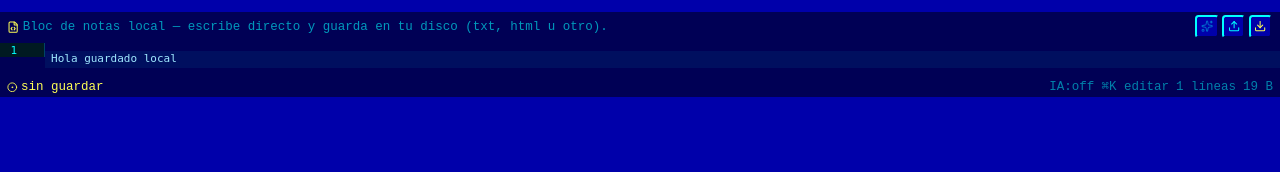
Test: EditorView › guarda el contenido como archivo LOCAL descargable (txt/html/otro)
Expected: the field with class "cm-content" is shown, [45,51,1279,68]
Click the button titled "Guardar archivo en tu disco" at (1260, 26), box [1249,14,1272,38]
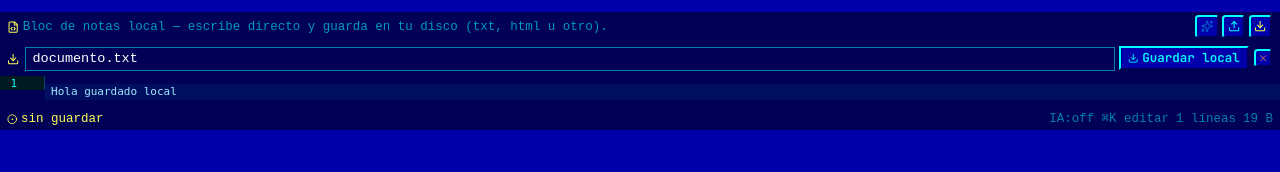
Replace the text in the field with placeholder "nombre.txt (txt, html, md, json…)" with "mis-notas.html" at (570, 59), box [24,47,1115,71]
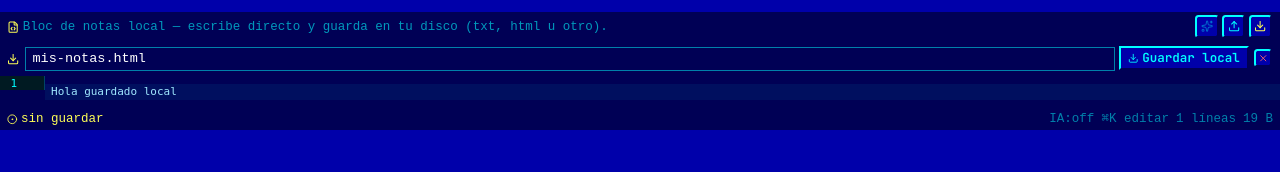
Click the button "Guardar local" at (1184, 58), box [1119,46,1249,70]
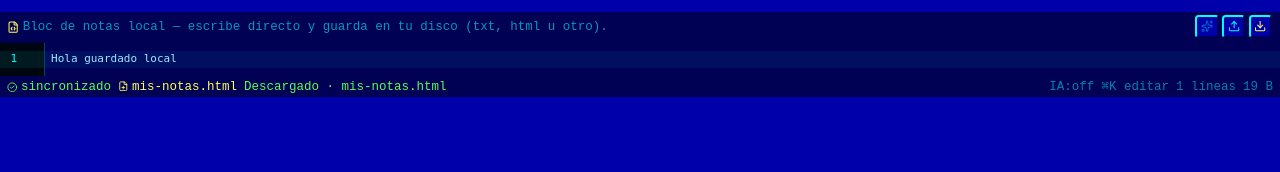
Now the text "Descargado · mis-notas.html" is shown, box [244,78,446,95]
